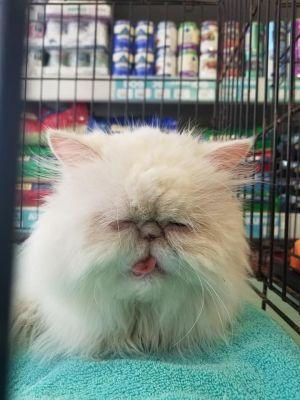persian: (32, 114, 264, 323)
